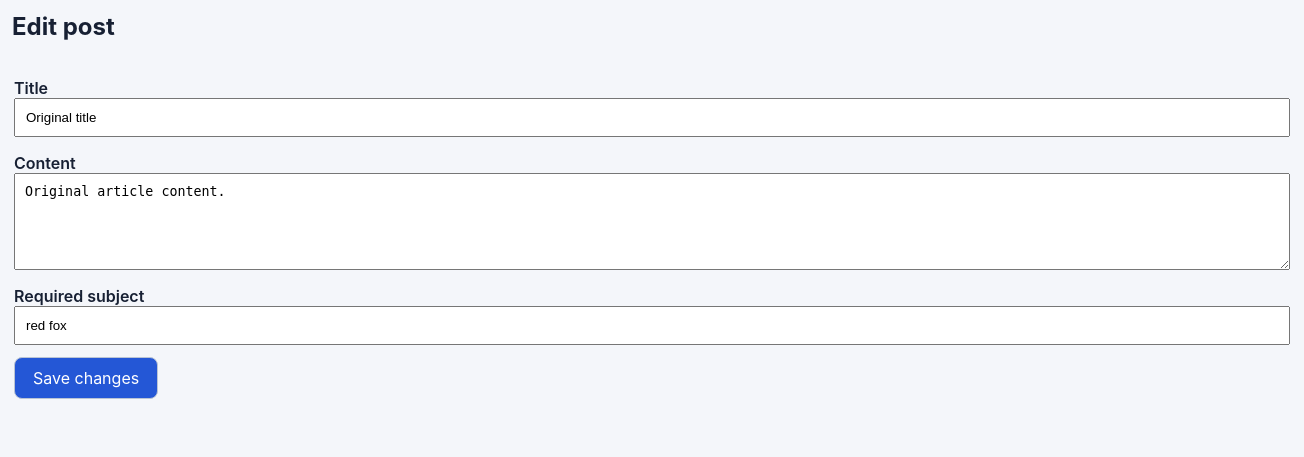
Test case: saves edited fields under the existing post ID
Replace the text in the field labelled "Title" with "  Updated title  " at (652, 117), box 14,98 -> 1290,137
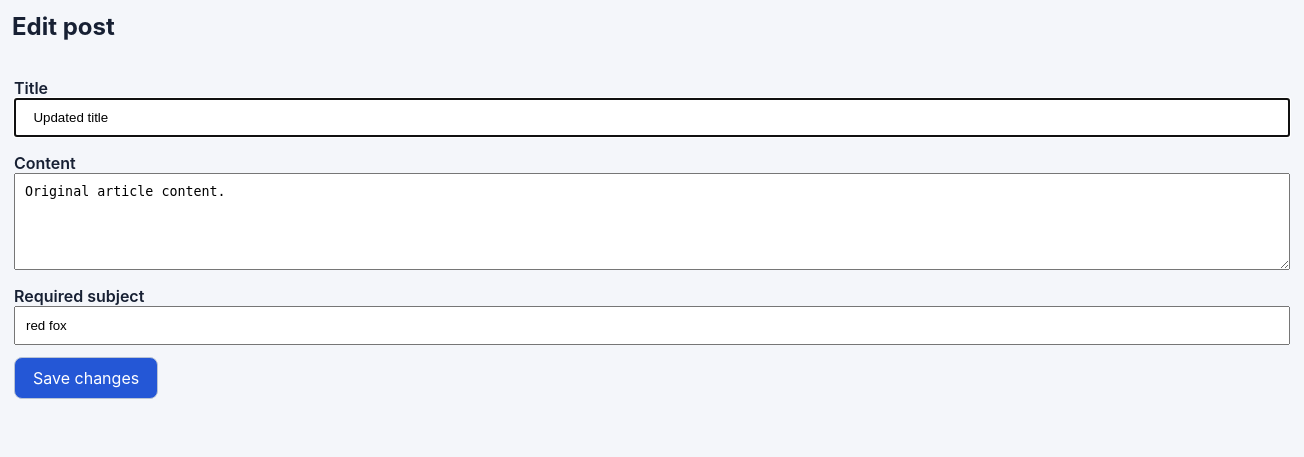
Click the button "Save changes" at (86, 378), box 14,357 -> 158,399
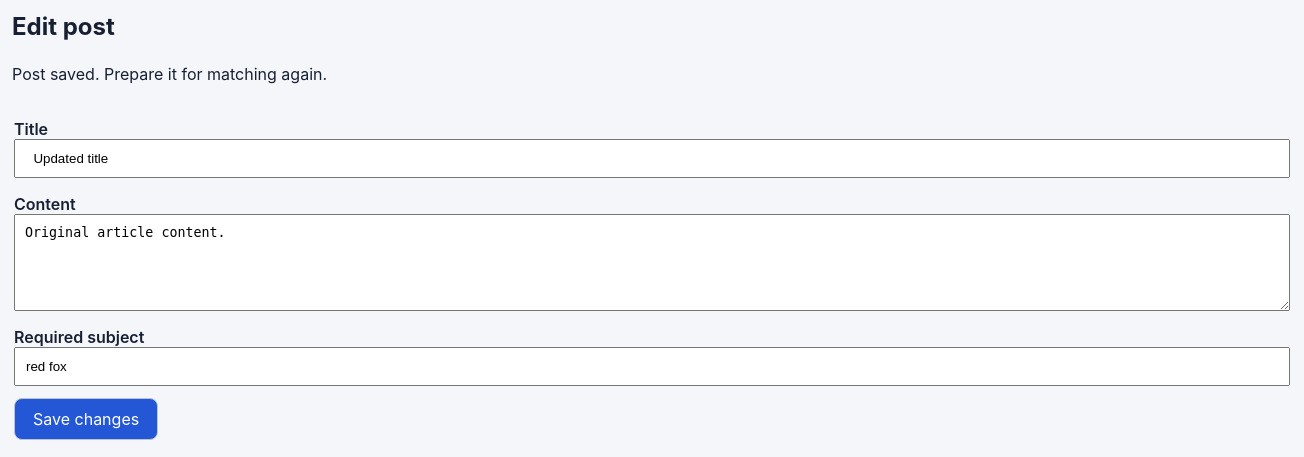
Expected: the text "Post saved. Prepare it for matching again." is shown, 12,64 -> 327,84
